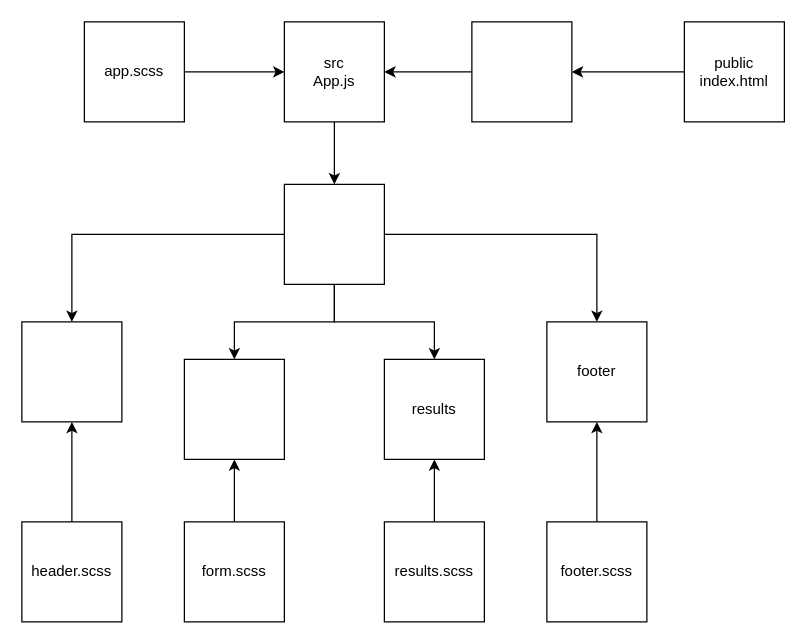
Some shapes in this 806 by 644 pixel diagram are drawn without their labels. Each missing label, with the centre of its shape:
components: (333,233)
form: (233,408)
header: (71,371)
index.js: (521,71)
